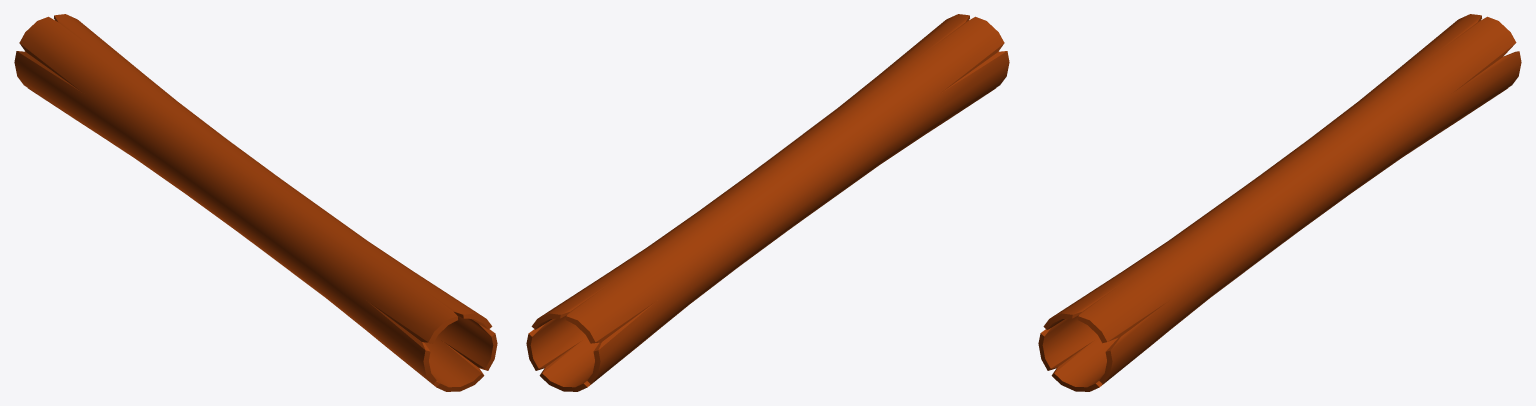
File: MadeiraGrande.gltf
3 views of the same model, side by side, from view 1: azimuth 30°, elevation 25°; view 2: azimuth 150°, elevation 25°; view 3: azimuth 330°, elevation 25° (orthographic).
Visible parts, largest first — view 1: MadeiraGrande; view 2: MadeiraGrande; view 3: MadeiraGrande.
Boxes of the visible parts, x1=… form: MadeiraGrande: x1=14, y1=14, x2=497, y2=391; MadeiraGrande: x1=526, y1=14, x2=1009, y2=391; MadeiraGrande: x1=1038, y1=14, x2=1521, y2=391.
Bounding box in the file's own units: 0.9178 × 0.8993 × 8.79.
1 material, 1 textured.
